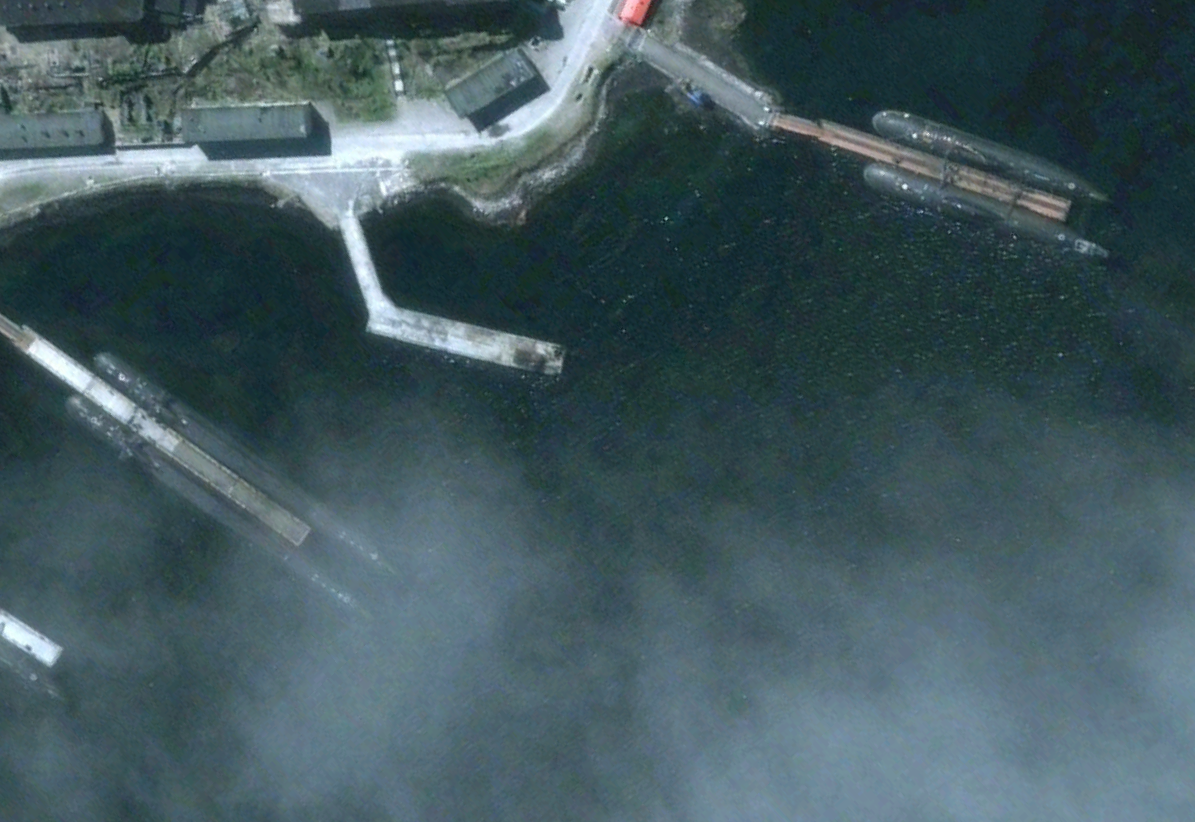submarine: (63, 389, 382, 624), (90, 349, 407, 584), (860, 161, 1109, 260), (868, 106, 1109, 204)
